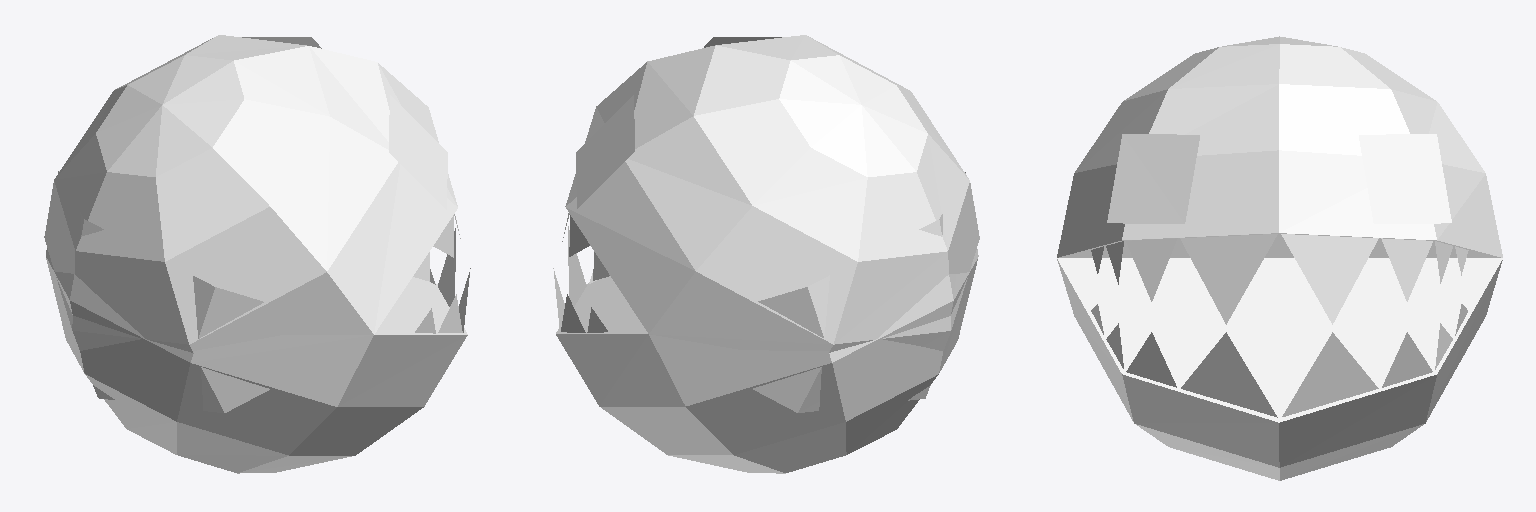
Rendered from ChainChomp.obj.
3 renders of one model, left to right at view 1: azimuth 30°, elevation 25°; view 2: azimuth 150°, elevation 25°; view 3: azimuth 270°, elevation 25°, orthographic.
Visible parts, largest first — view 1: ChainChomp; view 2: ChainChomp; view 3: ChainChomp.
Boxes of the visible parts, x1=… form: ChainChomp: x1=44, y1=35, x2=470, y2=473; ChainChomp: x1=553, y1=35, x2=979, y2=473; ChainChomp: x1=1057, y1=36, x2=1502, y2=480.
Size of the model in its own units: 44.74 by 46.2 by 46.52.